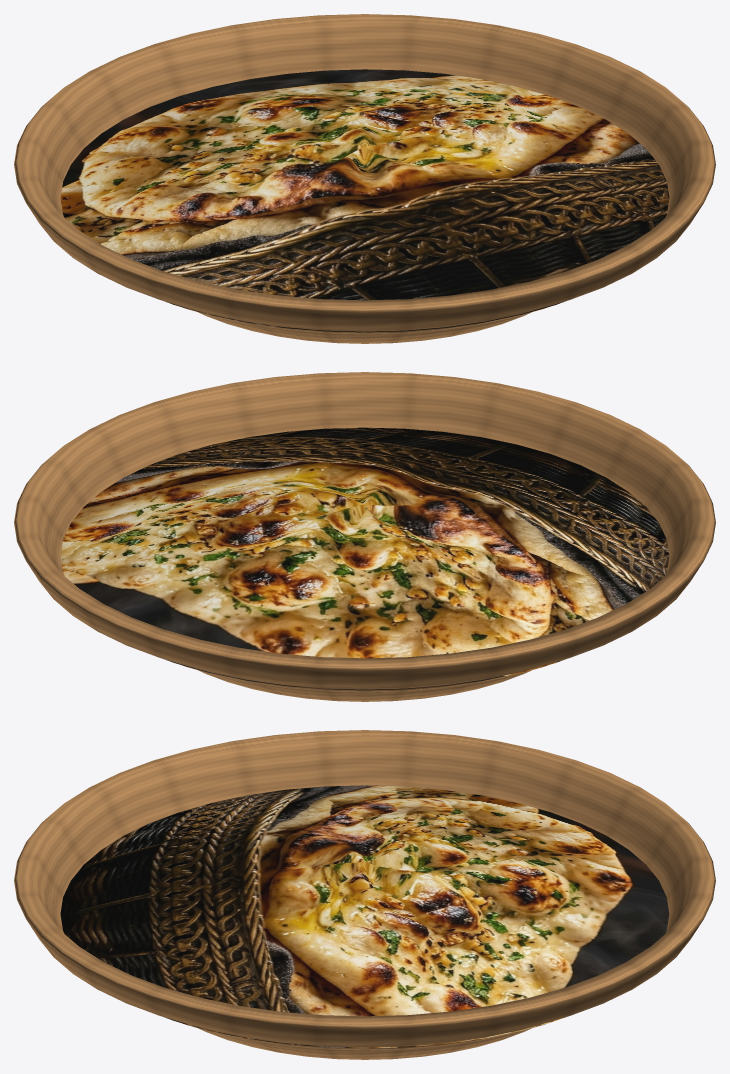
The model's file is garlic-naan.glb.
3 renders of one model, top to bottom at view 1: azimuth 30°, elevation 25°; view 2: azimuth 150°, elevation 25°; view 3: azimuth 270°, elevation 25°, orthographic.
Visible parts, largest first — view 1: FoodMound, BambooBowl; view 2: FoodMound, BambooBowl; view 3: FoodMound, BambooBowl.
Boxes of the visible parts, bbox=[...] form: FoodMound: bbox=[60, 69, 669, 332]; BambooBowl: bbox=[14, 14, 715, 343]; FoodMound: bbox=[60, 427, 669, 690]; BambooBowl: bbox=[14, 372, 715, 701]; FoodMound: bbox=[60, 785, 669, 1048]; BambooBowl: bbox=[14, 730, 715, 1059].
Size of the model in its own units: 0.26 by 0.044 by 0.26.
Materials: 2 (2 with a texture image).
